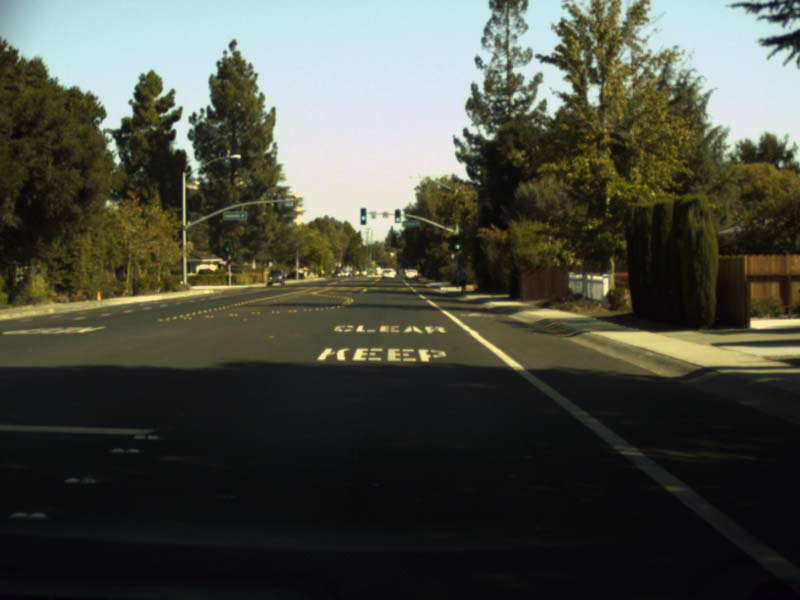Green: (451, 234, 461, 251), (358, 207, 367, 225), (393, 208, 401, 223), (224, 241, 231, 253)
